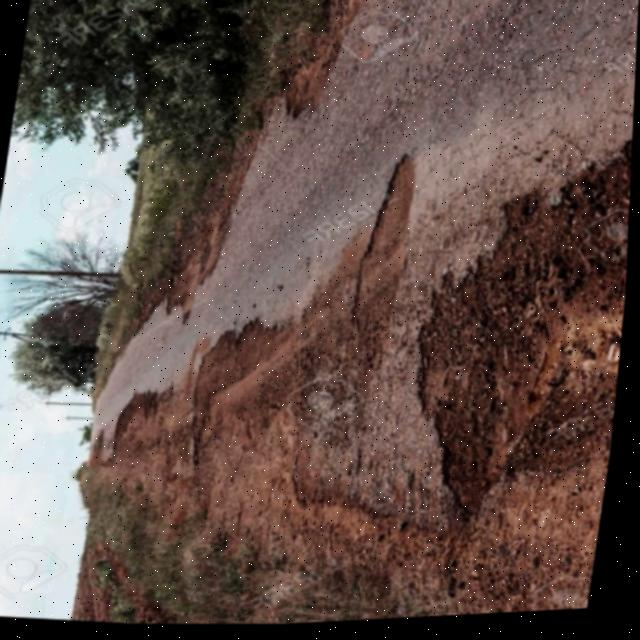Pothole: (382, 88, 636, 565), (87, 243, 393, 559), (152, 85, 273, 336), (338, 147, 431, 382), (269, 0, 383, 136)
